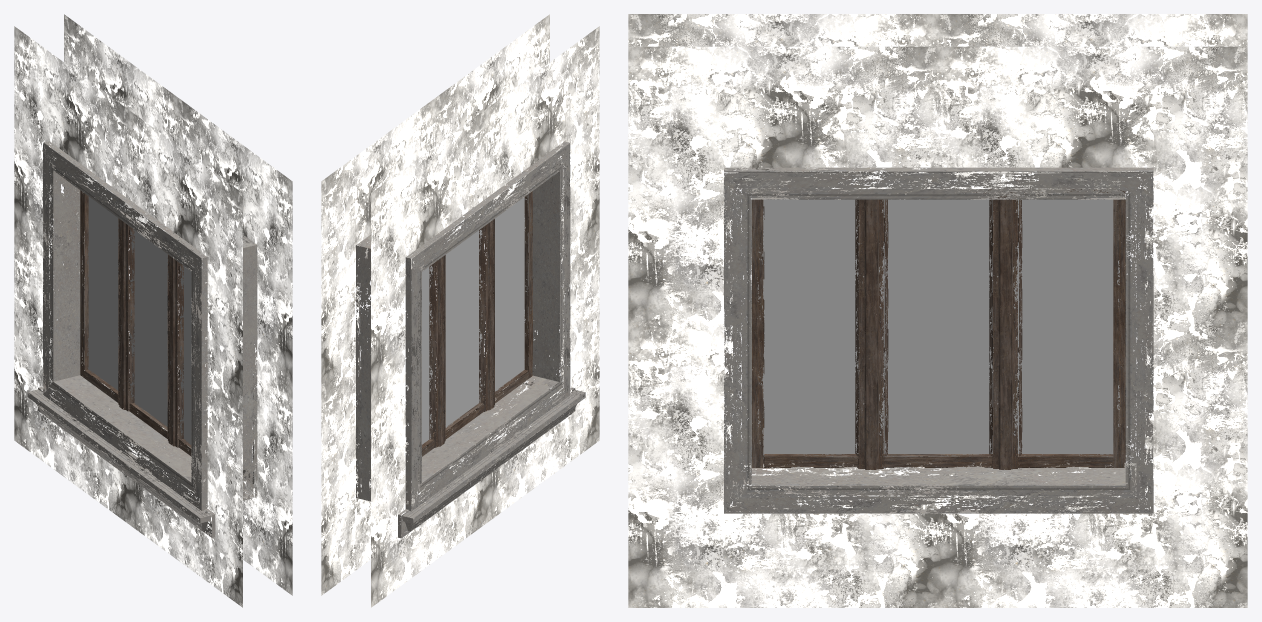
The model's file is SM_wall_A_window_4x4_06_01.fbx.
The picture shows the model from 3 angles, left to right: view 1: azimuth 30°, elevation 25°; view 2: azimuth 150°, elevation 25°; view 3: azimuth 270°, elevation 25°; orthographic projection. The views are drawn at different scales.
Visible parts, largest first — view 1: SM_wall_A_window_4x4_06_01_LOD0; view 2: SM_wall_A_window_4x4_06_01_LOD0; view 3: SM_wall_A_window_4x4_06_01_LOD0.
Boxes of the visible parts, <box> form: SM_wall_A_window_4x4_06_01_LOD0: <box>14,14,292,607</box>; SM_wall_A_window_4x4_06_01_LOD0: <box>321,14,599,607</box>; SM_wall_A_window_4x4_06_01_LOD0: <box>628,14,1247,607</box>.
Bounding box in the file's own units: 70.71 × 400 × 400.
Materials: 5 (4 with a texture image).
